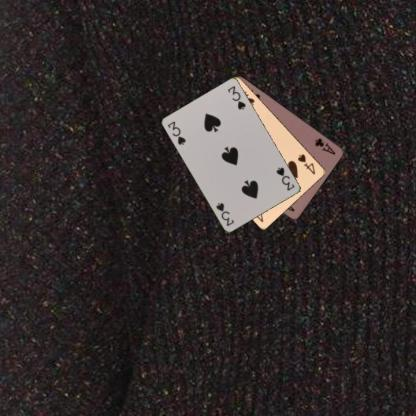3s: (274, 165, 296, 192), (165, 119, 187, 146)
4s: (295, 151, 317, 176)
Ac: (312, 135, 337, 156)
